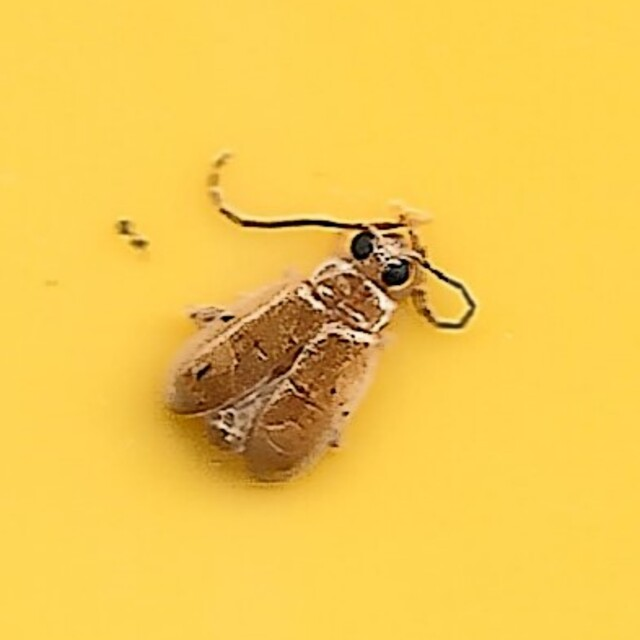Coleoptera: (163, 154, 477, 486)
